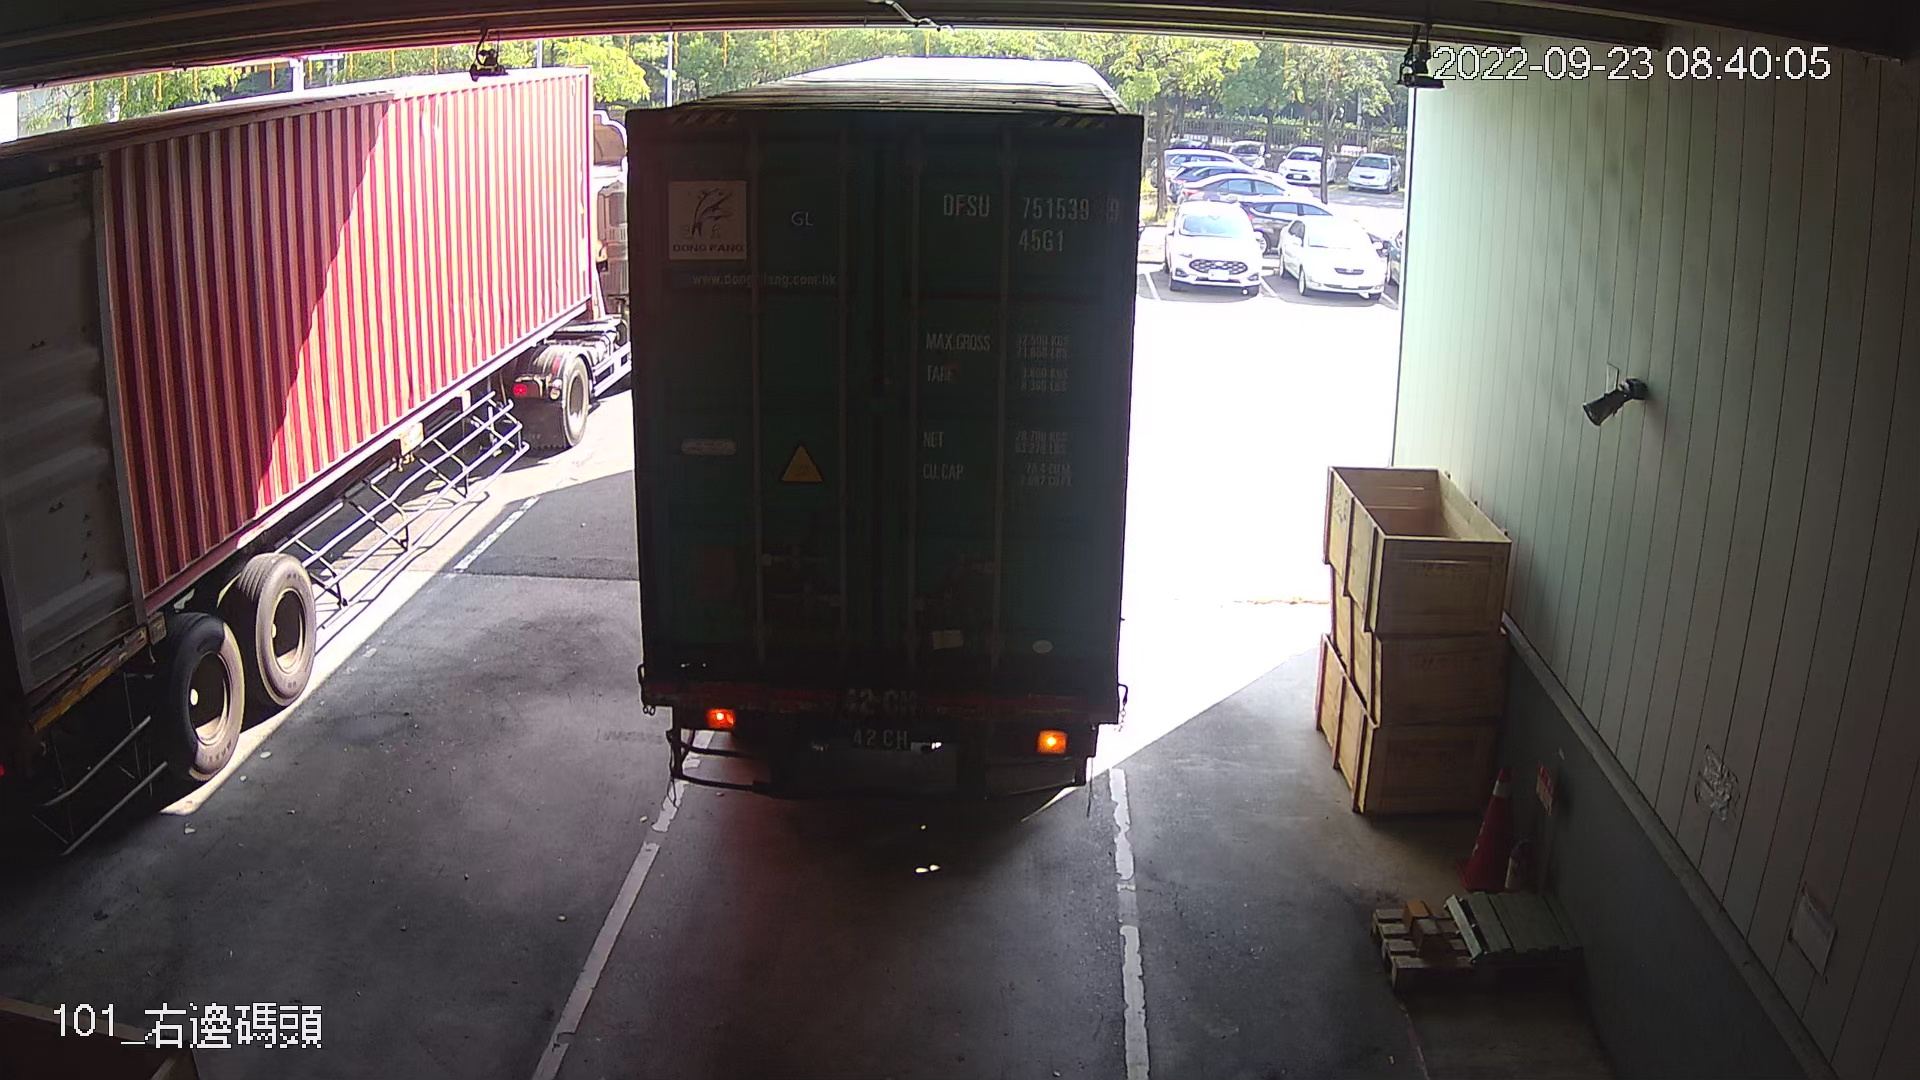container: (928, 179, 1131, 258)
